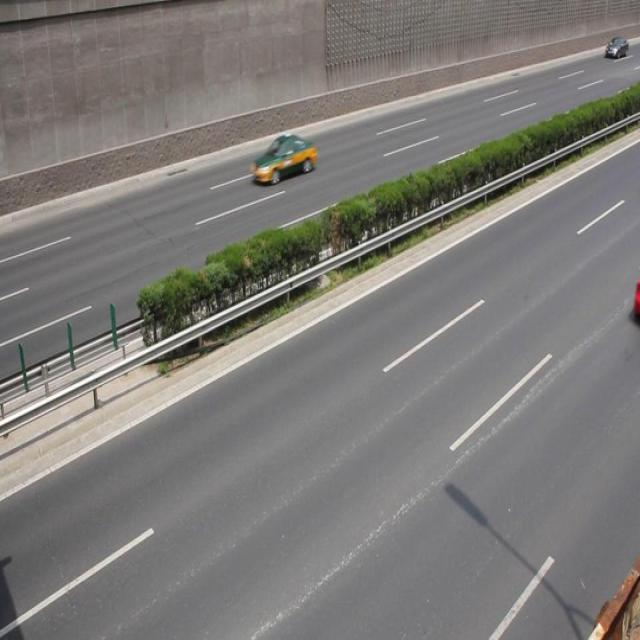car: (249, 135, 314, 186)
